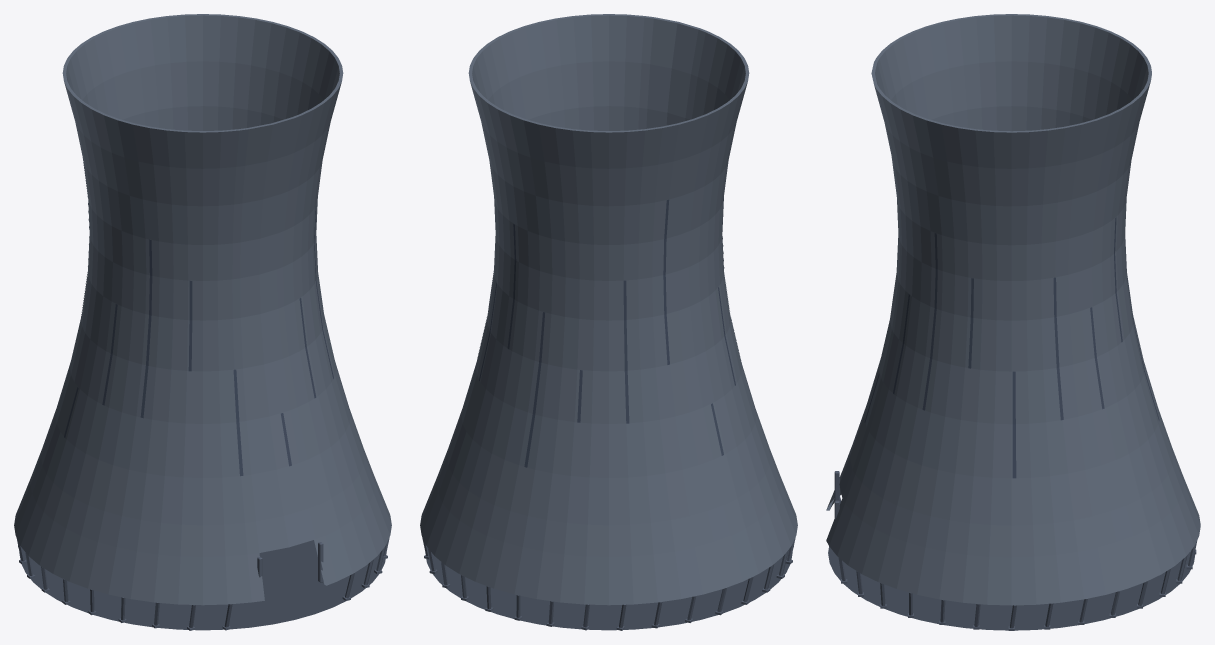
Rendered from power_cooling_tower_breach.glb.
3 renders of one model, left to right at view 1: azimuth 30°, elevation 25°; view 2: azimuth 150°, elevation 25°; view 3: azimuth 270°, elevation 25°, orthographic.
Visible parts, largest first — view 1: cooling_tower_concrete, turbine_hall_floor, concrete, concrete_raw_cast; view 2: cooling_tower_concrete, turbine_hall_floor, concrete, concrete_raw_cast; view 3: cooling_tower_concrete, turbine_hall_floor, concrete, concrete_raw_cast.
Boxes of the visible parts, x1,y1,x2,y2 form: cooling_tower_concrete: (14,14,391,605); turbine_hall_floor: (19,540,386,630); concrete: (64,159,333,476); concrete_raw_cast: (16,538,389,630); cooling_tower_concrete: (420,14,797,605); turbine_hall_floor: (425,549,792,630); concrete: (477,199,741,467); concrete_raw_cast: (422,538,795,630); cooling_tower_concrete: (826,14,1200,605); turbine_hall_floor: (828,546,1195,630); concrete: (864,217,1159,478); concrete_raw_cast: (834,471,1197,630).
Bounding box in the file's own units: 50 × 70 × 49.55.
